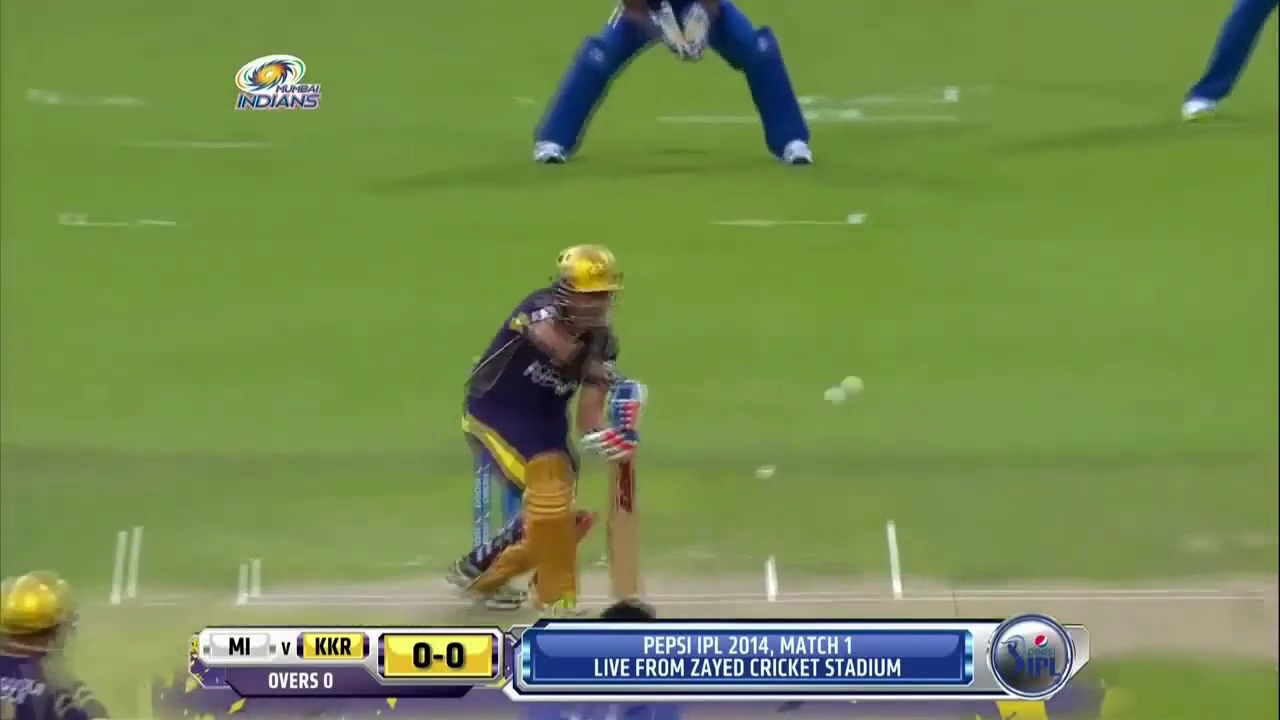bat: (605, 464, 642, 600)
